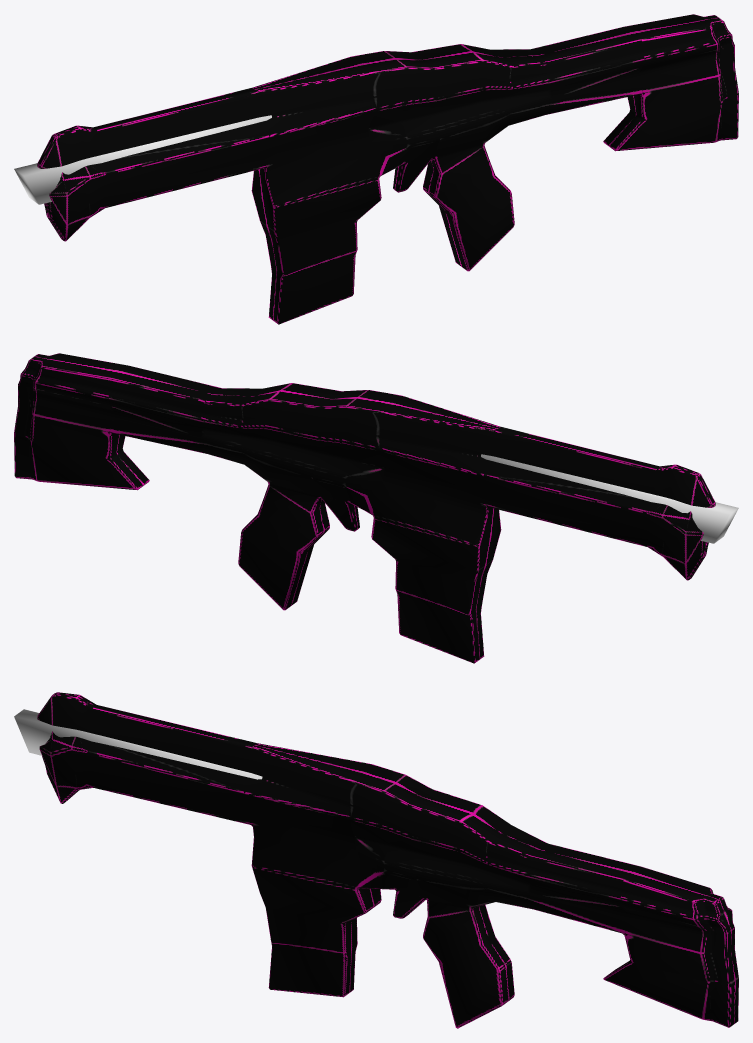
Rendered from GunJack.fbx.
The picture shows the model from 3 angles, top to bottom: view 1: azimuth 30°, elevation 25°; view 2: azimuth 150°, elevation 25°; view 3: azimuth 330°, elevation 25°; orthographic projection.
Parts seen in each view (by area): view 1: Plane, Cube; view 2: Plane, Cube; view 3: Plane, Cube.
Boxes of the visible parts, left/top/right/bottom form: Plane: left=37, top=14, right=738, bottom=324; Cube: left=14, top=115, right=271, bottom=204; Plane: left=14, top=353, right=715, bottom=663; Cube: left=481, top=454, right=738, bottom=543; Plane: left=37, top=692, right=738, bottom=1028; Cube: left=14, top=709, right=262, bottom=779.
Size of the model in its own units: 291 by 94.26 by 18.22.
